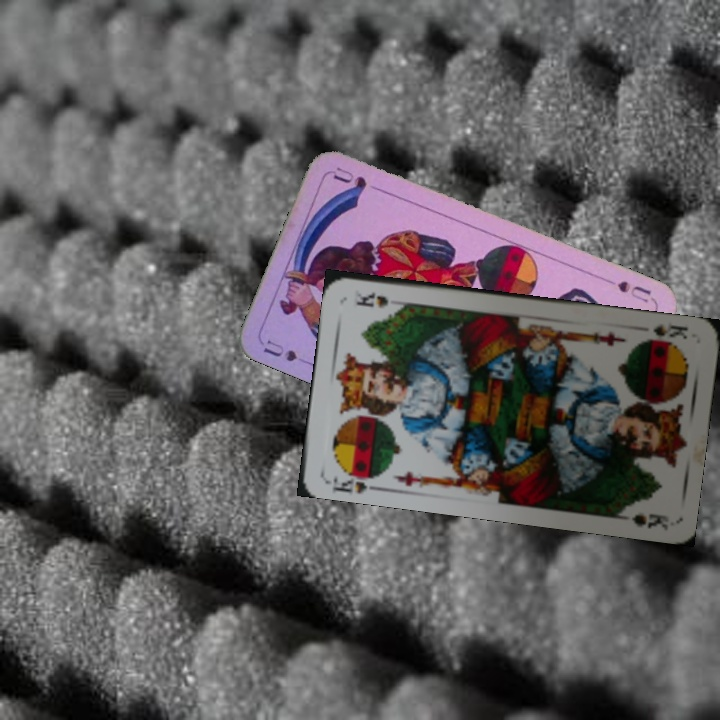SK: (329, 465, 384, 495), (649, 320, 690, 342)
SU: (259, 336, 317, 369), (601, 274, 657, 306)
